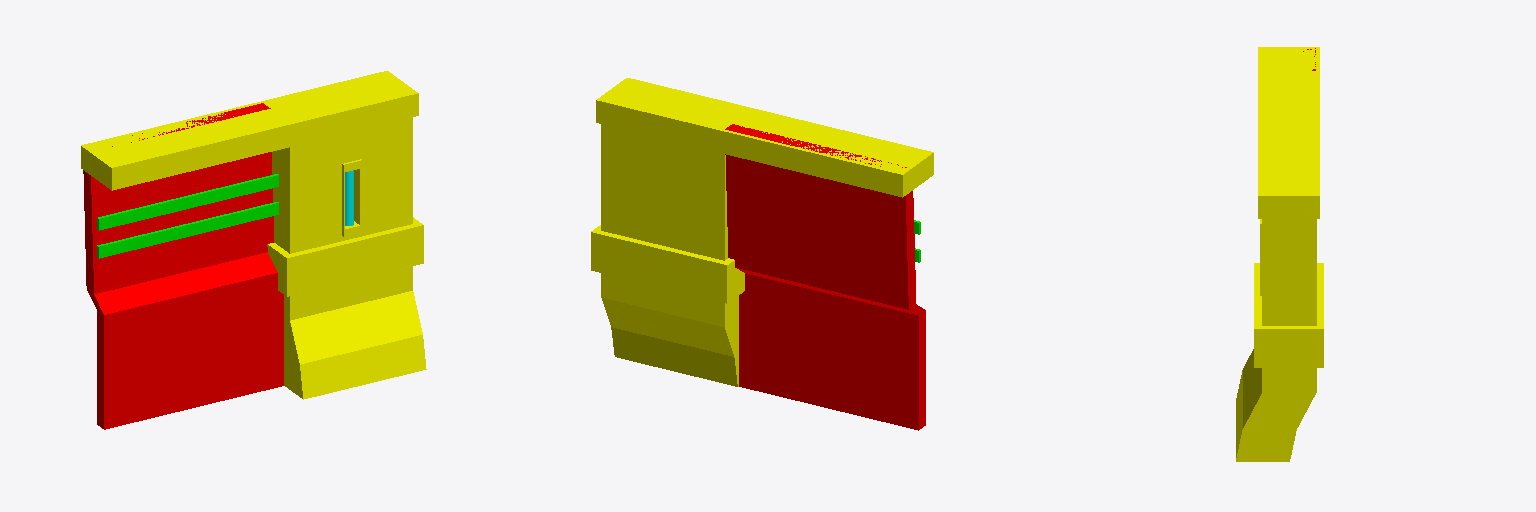
The model's file is innerSmallWall_levelOne_jg.obj.
3 renders of one model, left to right at view 1: azimuth 30°, elevation 25°; view 2: azimuth 150°, elevation 25°; view 3: azimuth 270°, elevation 25°, orthographic.
Visible parts, largest first — view 1: grp_wallSegment_small pCube99, grp_wallSegment_small pCube104, pCube106 grp_wallSegment_small, grp_wallSegment_small pCube105; view 2: grp_wallSegment_small pCube99, grp_wallSegment_small pCube104; view 3: grp_wallSegment_small pCube99.
Boxes of the visible parts, x1,y1,x2,y2 form: grp_wallSegment_small pCube99: [81, 71, 426, 399]; grp_wallSegment_small pCube104: [83, 103, 283, 429]; pCube106 grp_wallSegment_small: [97, 174, 278, 230]; grp_wallSegment_small pCube105: [97, 202, 278, 258]; grp_wallSegment_small pCube99: [591, 78, 933, 386]; grp_wallSegment_small pCube104: [725, 124, 925, 430]; grp_wallSegment_small pCube99: [1236, 47, 1323, 461].
Bounding box in the file's own units: 337 × 278 × 83.56.